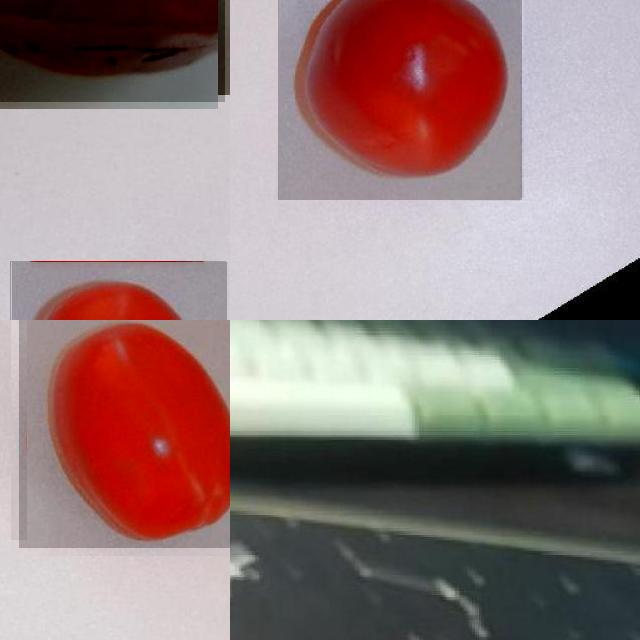Fresh Tomato: (277, 0, 522, 199), (19, 320, 230, 547), (10, 261, 227, 320)
Rotten Tomato: (0, 0, 225, 102)
